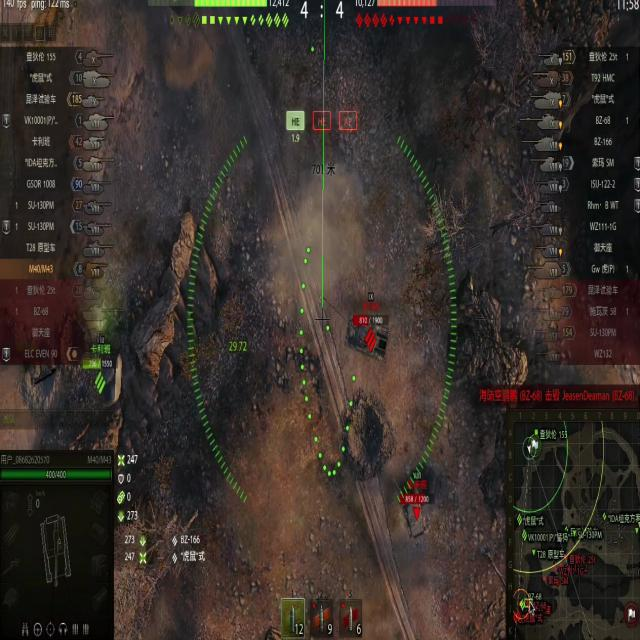tank: (342, 306, 393, 364)
